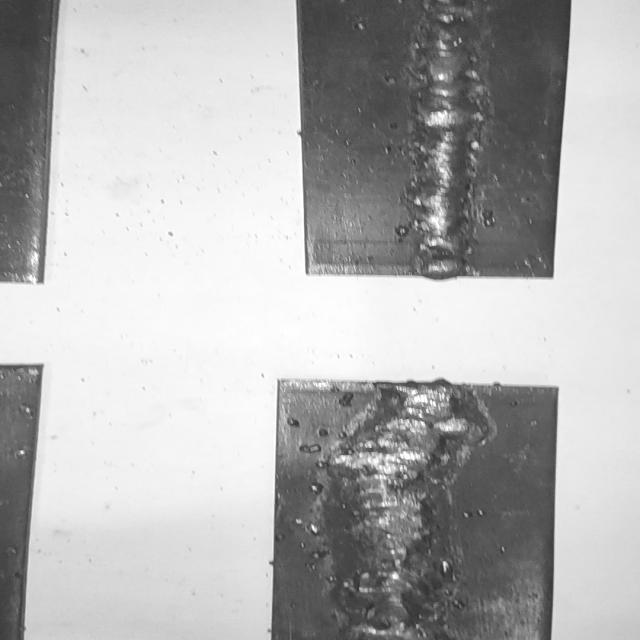Defect: (320, 410, 502, 634)
Welding Line: (338, 390, 469, 640), (413, 0, 479, 268)
Workpiece: (292, 0, 580, 281), (269, 375, 560, 640)
